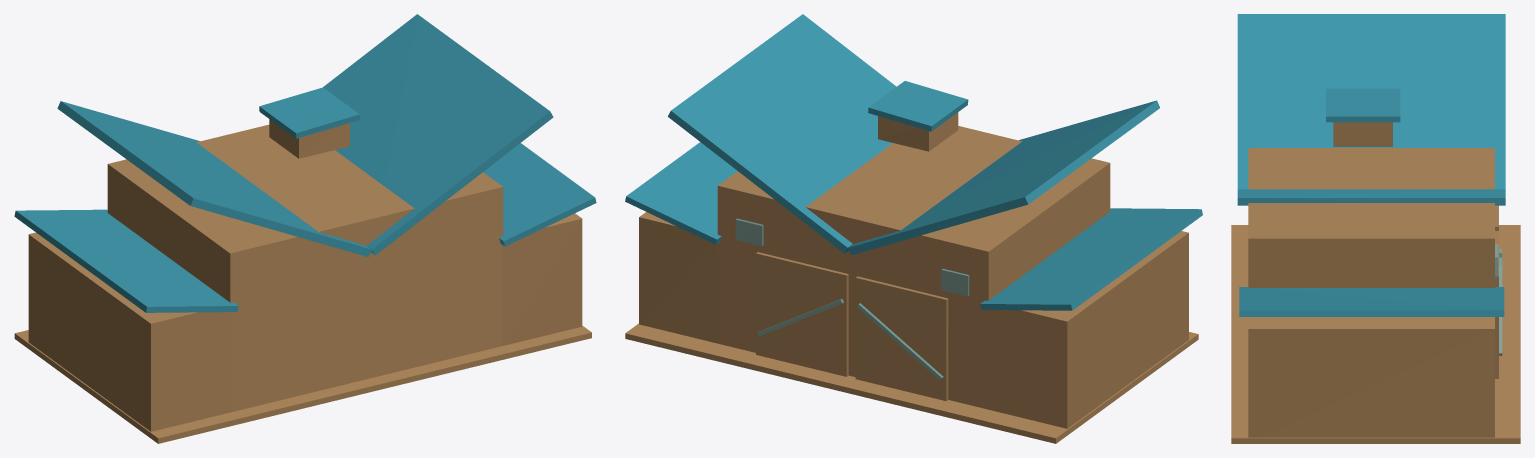
Rendered from grand-barn.source.glb.
3 views of the same model, side by side, from view 1: azimuth 30°, elevation 25°; view 2: azimuth 150°, elevation 25°; view 3: azimuth 270°, elevation 25° (orthographic).
Visible parts, largest first — view 1: grand-barn-main-hall-mesh, grand-barn-east-roof-mesh, grand-barn-west-aisle-mesh, grand-barn-west-roof-mesh, grand-barn-west-lean-roof-mesh, grand-barn-east-aisle-mesh, grand-barn-foundation-pad-mesh, grand-barn-east-lean-roof-mesh, grand-barn-cupola-cap-mesh, grand-barn-cupola-body-mesh; view 2: grand-barn-main-hall-mesh, grand-barn-east-roof-mesh, grand-barn-west-aisle-mesh, grand-barn-west-roof-mesh, grand-barn-west-lean-roof-mesh, grand-barn-door--2.06-mesh, grand-barn-door-2.06-mesh, grand-barn-foundation-pad-mesh, grand-barn-east-aisle-mesh, grand-barn-east-lean-roof-mesh, grand-barn-cupola-cap-mesh, grand-barn-cupola-body-mesh (+3 smaller); view 3: grand-barn-west-roof-mesh, grand-barn-main-hall-mesh, grand-barn-east-aisle-mesh, grand-barn-foundation-pad-mesh, grand-barn-east-lean-roof-mesh, grand-barn-east-roof-mesh, grand-barn-cupola-cap-mesh, grand-barn-cupola-body-mesh, grand-barn-door-2.06-mesh.
Boxes of the visible parts, x1=… form: grand-barn-main-hall-mesh: x1=107, y1=124, x2=503, y2=412; grand-barn-east-roof-mesh: x1=323, y1=14, x2=553, y2=255; grand-barn-west-aisle-mesh: x1=28, y1=232, x2=230, y2=431; grand-barn-west-roof-mesh: x1=57, y1=101, x2=371, y2=256; grand-barn-west-lean-roof-mesh: x1=14, y1=209, x2=238, y2=312; grand-barn-east-aisle-mesh: x1=502, y1=213, x2=582, y2=345; grand-barn-foundation-pad-mesh: x1=14, y1=325, x2=591, y2=443; grand-barn-east-lean-roof-mesh: x1=483, y1=143, x2=596, y2=246; grand-barn-cupola-cap-mesh: x1=259, y1=87, x2=359, y2=138; grand-barn-cupola-body-mesh: x1=269, y1=119, x2=349, y2=158; grand-barn-main-hall-mesh: x1=717, y1=126, x2=1110, y2=409; grand-barn-east-roof-mesh: x1=668, y1=14, x2=896, y2=253; grand-barn-west-aisle-mesh: x1=988, y1=231, x2=1188, y2=428; grand-barn-west-roof-mesh: x1=848, y1=100, x2=1159, y2=255; grand-barn-west-lean-roof-mesh: x1=980, y1=208, x2=1202, y2=310; grand-barn-door--2.06-mesh: x1=855, y1=276, x2=948, y2=401; grand-barn-door-2.06-mesh: x1=756, y1=252, x2=848, y2=376; grand-barn-foundation-pad-mesh: x1=625, y1=323, x2=1198, y2=443; grand-barn-east-aisle-mesh: x1=639, y1=212, x2=718, y2=343; grand-barn-east-lean-roof-mesh: x1=625, y1=142, x2=737, y2=244; grand-barn-cupola-cap-mesh: x1=868, y1=81, x2=968, y2=131; grand-barn-cupola-body-mesh: x1=878, y1=112, x2=958, y2=151; grand-barn-west-roof-mesh: x1=1237, y1=14, x2=1505, y2=189; grand-barn-main-hall-mesh: x1=1248, y1=148, x2=1494, y2=287; grand-barn-east-aisle-mesh: x1=1248, y1=317, x2=1494, y2=437; grand-barn-foundation-pad-mesh: x1=1231, y1=225, x2=1520, y2=443; grand-barn-east-lean-roof-mesh: x1=1239, y1=287, x2=1504, y2=316; grand-barn-east-roof-mesh: x1=1237, y1=189, x2=1505, y2=205; grand-barn-cupola-cap-mesh: x1=1326, y1=88, x2=1400, y2=122; grand-barn-cupola-body-mesh: x1=1333, y1=122, x2=1392, y2=146; grand-barn-door-2.06-mesh: x1=1495, y1=231, x2=1498, y2=378.
Size of the model in its own units: 18.49 by 9.2 by 10.2.
